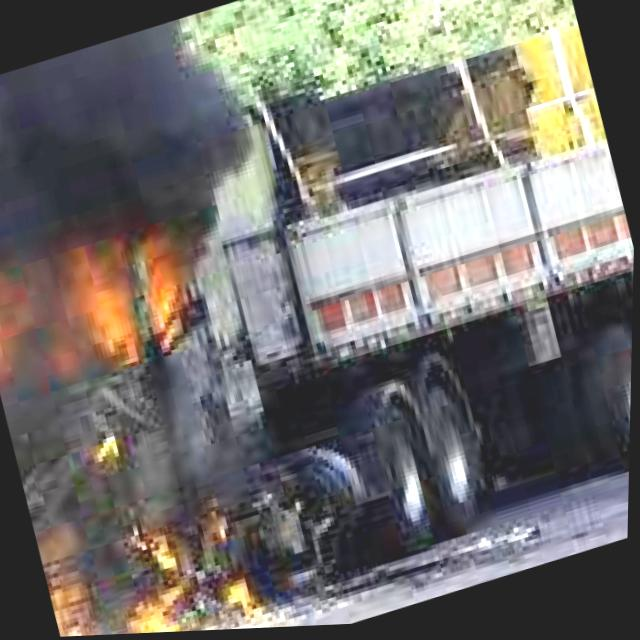smoke: (0, 0, 311, 303)
